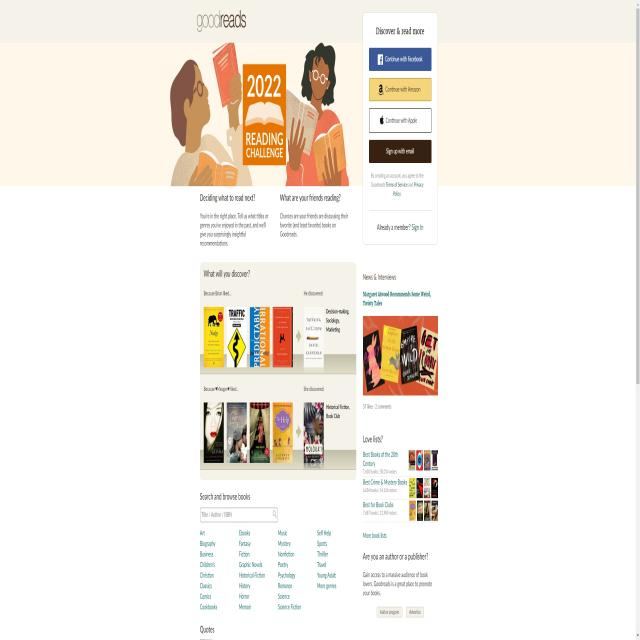search: (200, 506, 280, 524)
side-panel: (359, 266, 446, 624), (362, 17, 437, 249)
